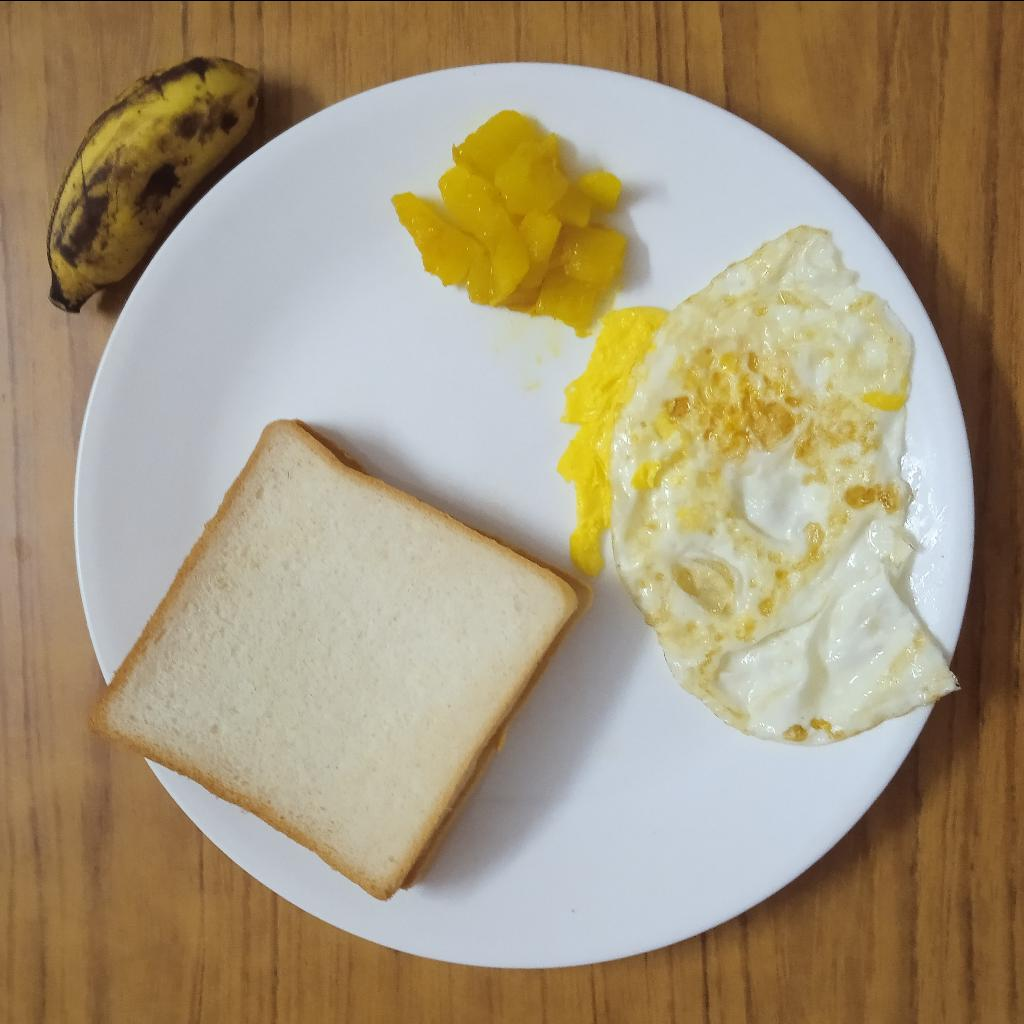banana: (47, 50, 267, 315)
bread: (83, 415, 593, 902)
egg-poached: (559, 223, 969, 741)
lau: (395, 106, 629, 334)
